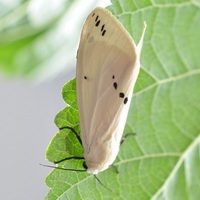insect: (46, 8, 145, 199)
